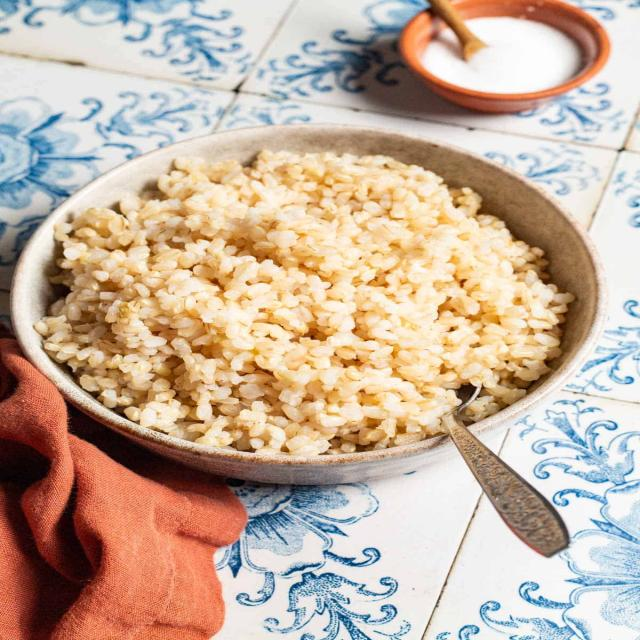rice: (61, 153, 555, 444)
